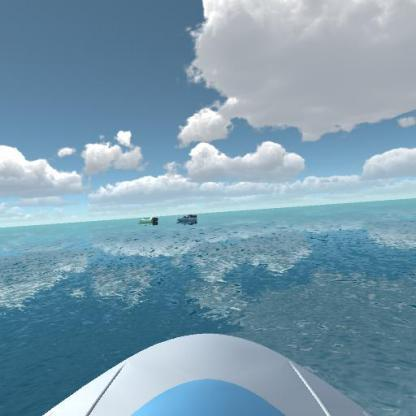usv0: (136, 212, 164, 230)
usv1: (174, 210, 198, 227)
